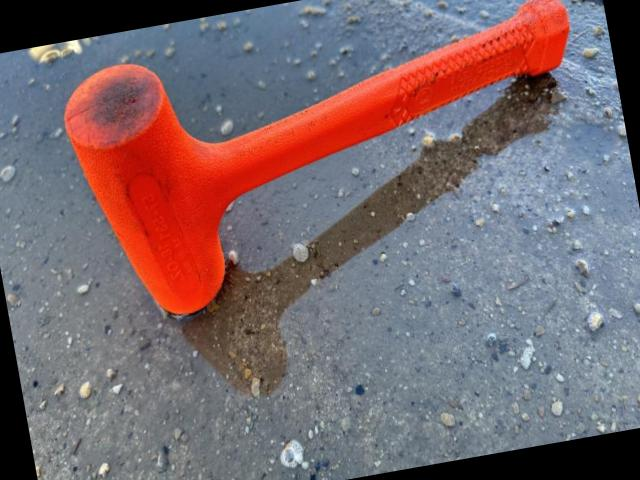hammer: (53, 0, 608, 327)
